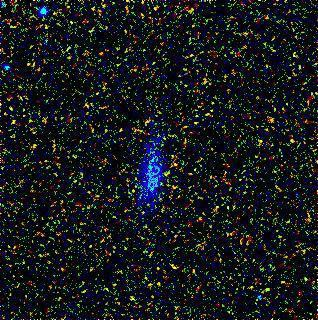star: (152, 160, 182, 190)
